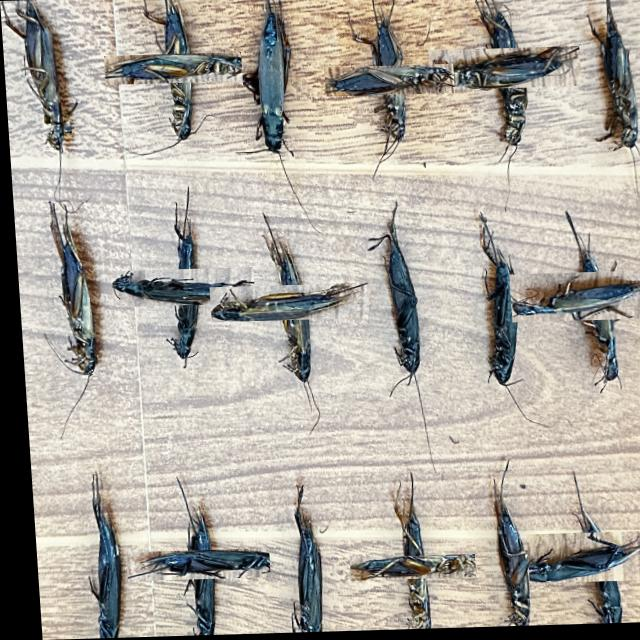egg: (47, 202, 91, 374), (242, 0, 287, 152), (476, 218, 514, 390), (428, 50, 579, 91), (485, 473, 523, 629), (23, 0, 63, 148), (520, 536, 640, 585), (207, 285, 363, 322), (507, 282, 640, 323), (382, 213, 415, 378), (108, 271, 250, 305), (84, 474, 113, 638), (104, 53, 248, 84), (284, 486, 314, 634), (119, 550, 262, 579), (601, 24, 634, 149), (325, 66, 453, 97), (343, 556, 467, 582), (23, 49, 57, 74), (37, 121, 70, 133)
